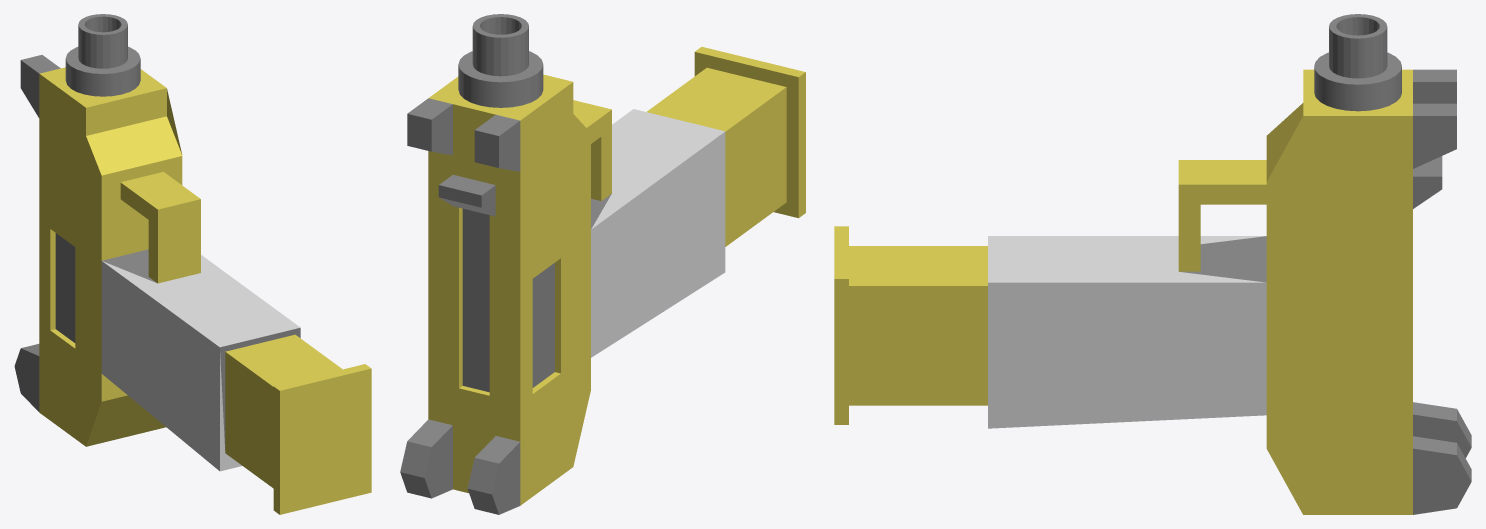
File: uzigold.fbx
3 views of the same model, side by side, from view 1: azimuth 30°, elevation 25°; view 2: azimuth 150°, elevation 25°; view 3: azimuth 270°, elevation 25° (orthographic). The views are drawn at different scales.
Parts seen in each view (by area): view 1: imagetostl_mesh36, imagetostl_mesh15, imagetostl_mesh9, imagetostl_mesh87, imagetostl_mesh72, imagetostl_mesh10, imagetostl_mesh39, imagetostl_mesh81, imagetostl_mesh52, imagetostl_mesh73, imagetostl_mesh88, imagetostl_mesh89 (+25 smaller); view 2: imagetostl_mesh36, imagetostl_mesh9, imagetostl_mesh148, imagetostl_mesh10, imagetostl_mesh143, imagetostl_mesh52, imagetostl_mesh73, imagetostl_mesh96, imagetostl_mesh95, imagetostl_mesh128, imagetostl_mesh39, imagetostl_mesh127 (+44 smaller); view 3: imagetostl_mesh69, imagetostl_mesh41, imagetostl_mesh1, imagetostl_mesh10, imagetostl_mesh39, imagetostl_mesh80, imagetostl_mesh154, imagetostl_mesh84, imagetostl_mesh38, imagetostl_mesh86, imagetostl_mesh11, imagetostl_mesh125 (+6 smaller).
Part boxes in pixels (left/top/right/bottom): imagetostl_mesh36: left=101, top=261, right=219, bottom=470; imagetostl_mesh15: left=280, top=368, right=371, bottom=514; imagetostl_mesh9: left=225, top=352, right=273, bottom=488; imagetostl_mesh87: left=86, top=116, right=182, bottom=175; imagetostl_mesh72: left=50, top=156, right=181, bottom=260; imagetostl_mesh10: left=225, top=334, right=342, bottom=386; imagetostl_mesh39: left=201, top=273, right=299, bottom=347; imagetostl_mesh81: left=158, top=199, right=200, bottom=283; imagetostl_mesh52: left=39, top=119, right=101, bottom=228; imagetostl_mesh73: left=51, top=229, right=101, bottom=373; imagetostl_mesh88: left=86, top=88, right=166, bottom=135; imagetostl_mesh89: left=86, top=395, right=165, bottom=446; imagetostl_mesh36: left=591, top=132, right=725, bottom=357; imagetostl_mesh9: left=725, top=87, right=786, bottom=246; imagetostl_mesh148: left=462, top=208, right=489, bottom=392; imagetostl_mesh10: left=647, top=54, right=785, bottom=131; imagetostl_mesh143: left=453, top=107, right=492, bottom=493; imagetostl_mesh52: left=520, top=133, right=590, bottom=278; imagetostl_mesh73: left=534, top=230, right=590, bottom=373; imagetostl_mesh96: left=495, top=167, right=520, bottom=435; imagetostl_mesh95: left=496, top=174, right=520, bottom=441; imagetostl_mesh128: left=428, top=151, right=452, bottom=425; imagetostl_mesh39: left=612, top=109, right=724, bottom=166; imagetostl_mesh127: left=428, top=151, right=452, bottom=423; imagetostl_mesh69: left=1266, top=116, right=1412, bottom=514; imagetostl_mesh41: left=988, top=282, right=1266, bottom=428; imagetostl_mesh1: left=849, top=286, right=987, bottom=405; imagetostl_mesh10: left=849, top=246, right=987, bottom=285; imagetostl_mesh39: left=988, top=236, right=1177, bottom=282; imagetostl_mesh80: left=1178, top=184, right=1266, bottom=271; imagetostl_mesh154: left=1413, top=448, right=1471, bottom=514; imagetostl_mesh84: left=1179, top=236, right=1266, bottom=282; imagetostl_mesh38: left=990, top=236, right=1178, bottom=271; imagetostl_mesh86: left=1178, top=160, right=1266, bottom=184; imagetostl_mesh11: left=834, top=279, right=848, bottom=424; imagetostl_mesh125: left=1413, top=116, right=1456, bottom=168.
Size of what is drawn, in the model's own units: 1.02 by 4.21 by 5.22.
